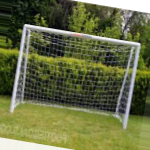goals: (9, 23, 141, 132)
